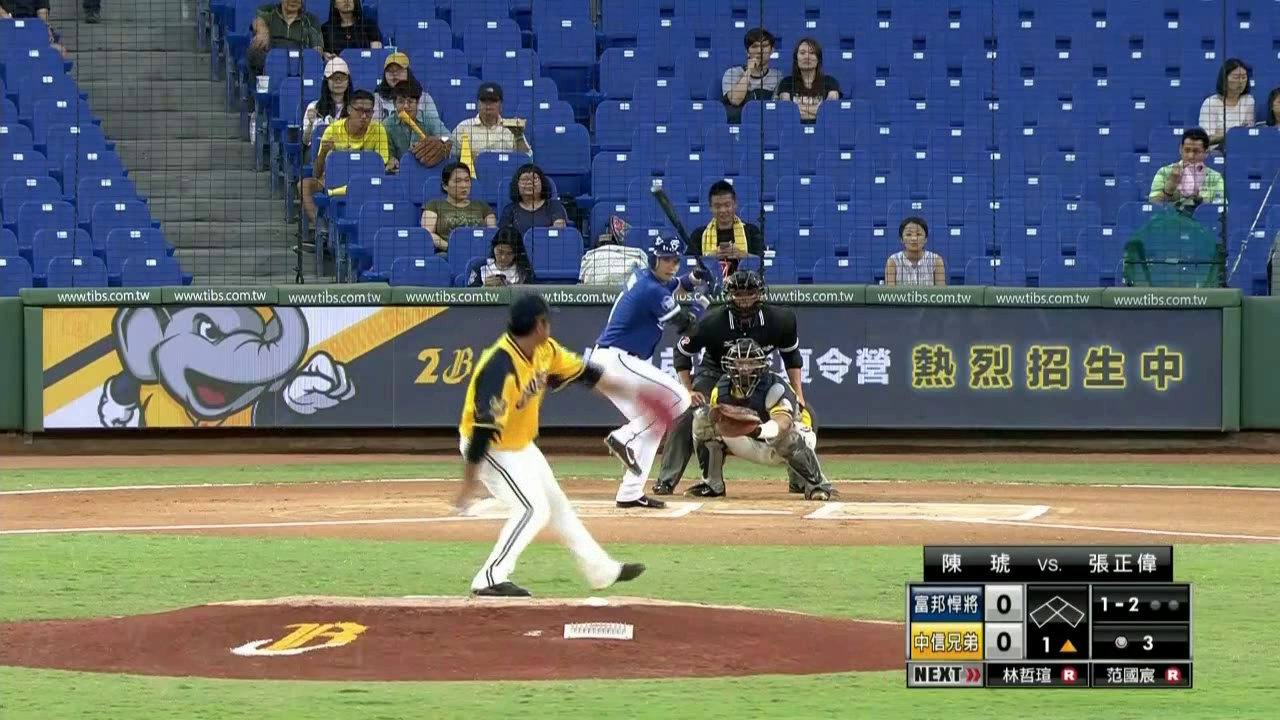ball: (460, 494, 472, 511)
base: (1027, 588, 1090, 632)
bat: (655, 184, 715, 280)
out: (1145, 597, 1185, 621)
score1: (987, 586, 1020, 616)
score2: (989, 622, 1021, 656)
session: (1025, 634, 1087, 657)
strikeball: (1092, 590, 1142, 621)
total: (1106, 628, 1158, 654)
